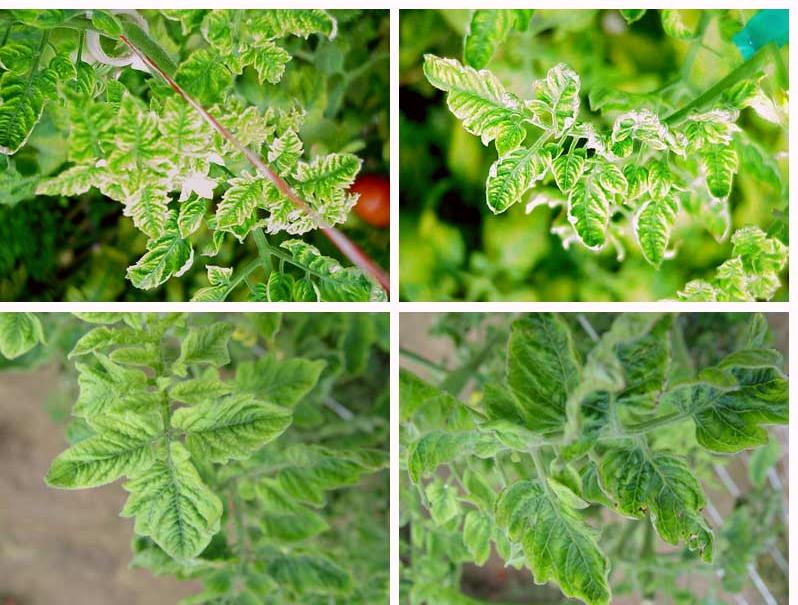Tomato leaf yellow virus: (642, 335, 787, 458), (591, 434, 718, 551), (504, 483, 614, 599), (130, 437, 228, 567), (483, 318, 584, 441), (417, 52, 547, 147), (37, 425, 157, 496), (182, 408, 313, 464), (513, 39, 587, 138), (1, 54, 61, 162), (478, 133, 555, 217), (567, 156, 629, 256), (108, 96, 166, 167), (635, 191, 677, 281), (295, 145, 364, 198), (181, 50, 236, 110), (211, 175, 263, 230), (122, 179, 167, 237), (246, 35, 292, 91), (700, 133, 734, 208), (547, 148, 595, 192), (177, 191, 208, 244), (644, 159, 676, 206)
